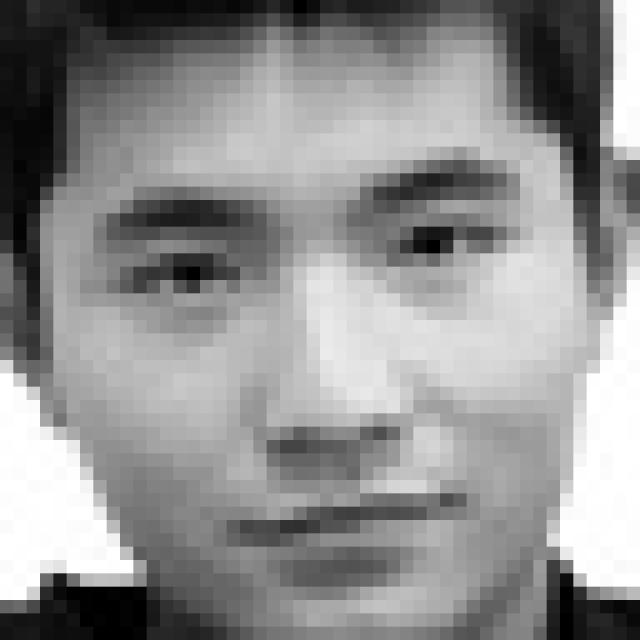neutral: (99, 150, 532, 590)
